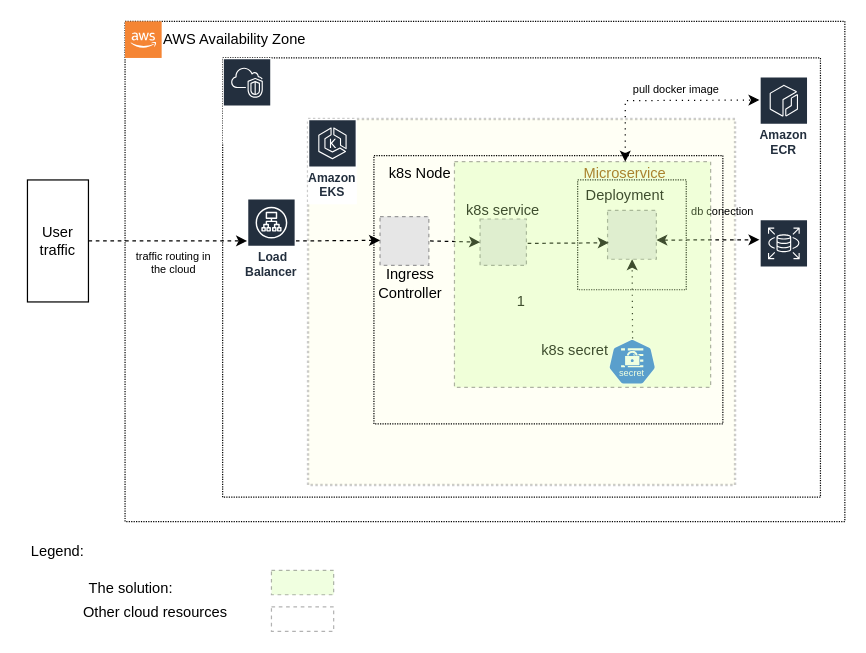
Some shapes in this 866 by 653 pixel diagram are drawn without their labels. Grey dashed boxes stand in for pictures. Each missing label, with the centre of its shape:
"Amazon RDS" goes at (x=783, y=264).
"Amazon VPC" goes at (x=246, y=100).
"get db credentials" goes at (x=582, y=273).
